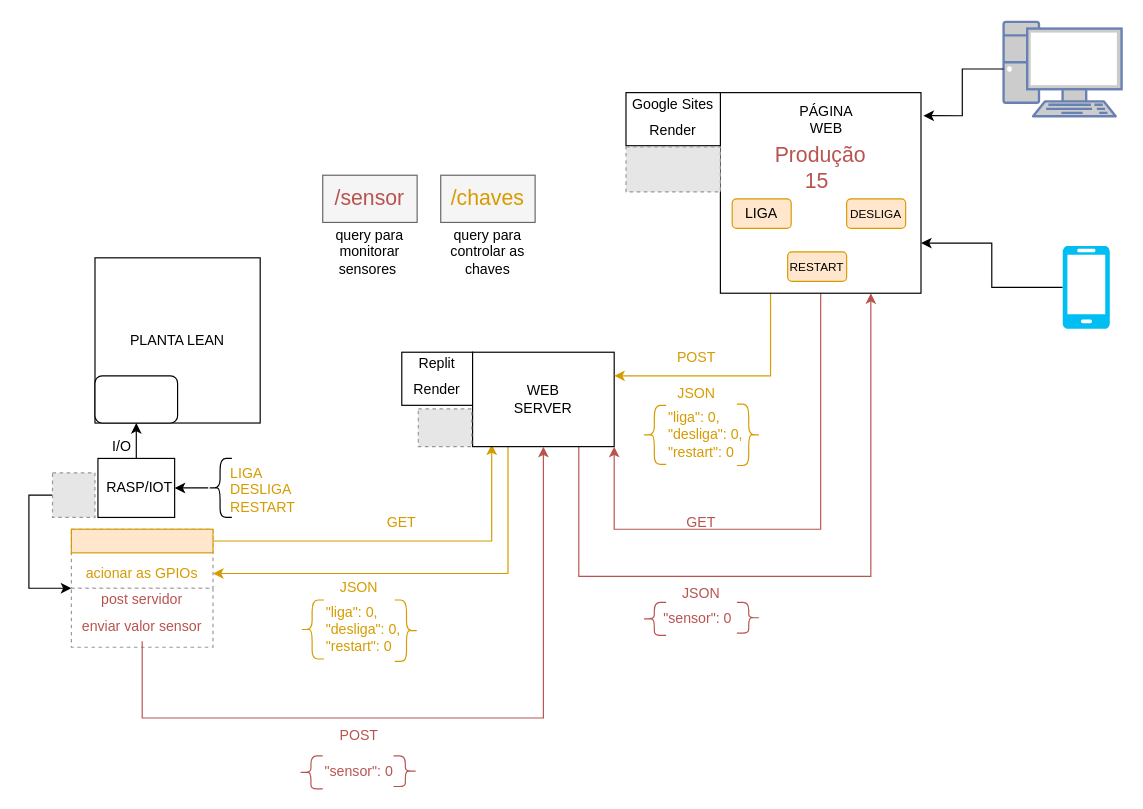
This 1143x809 diagram has some shape labels left out. Grey dashed boxes stand in for pictures. Each missing label, with the box of its shape:
CLP: (94, 375, 178, 423)
get servidor: (70, 528, 213, 553)
